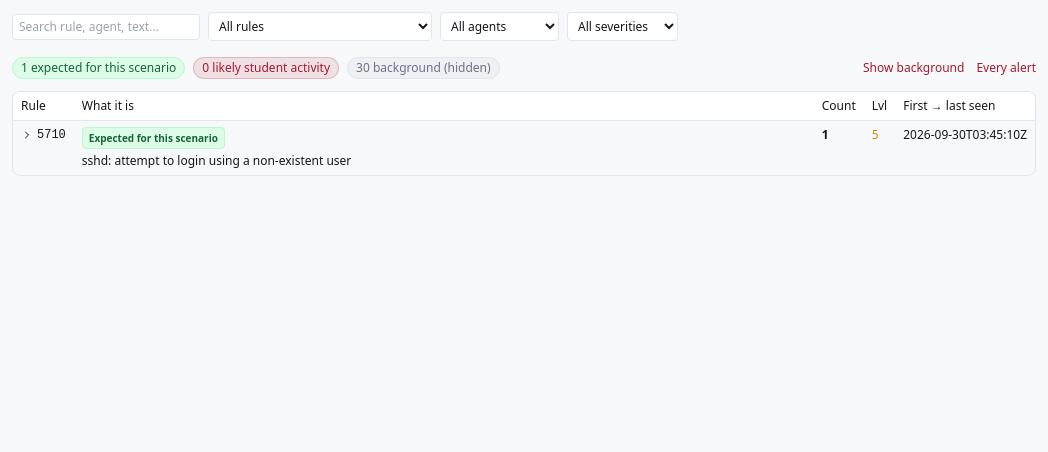
Test: can switch to every raw alert
The image size is (1048, 452).
Click the button "Every alert" at (1006, 68), box x1=976 y1=60 x2=1036 y2=76
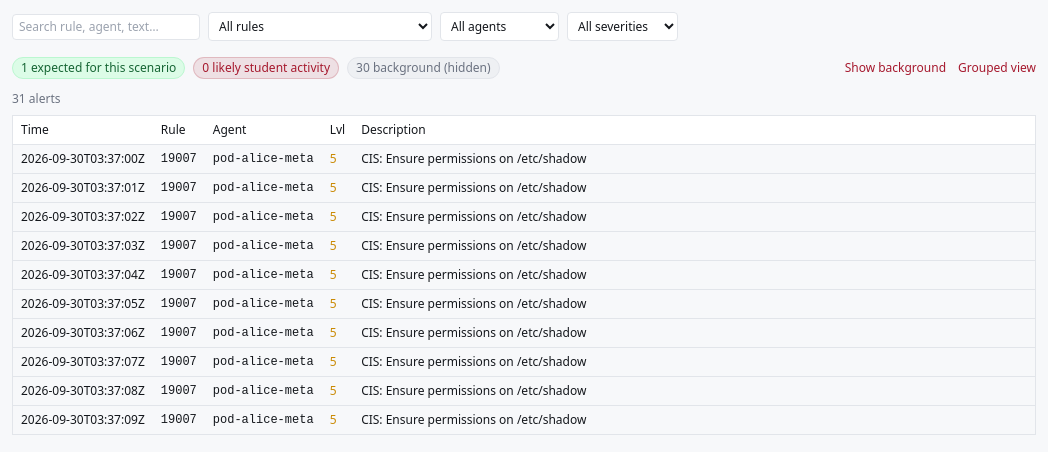
Now the text with test id "alert-history-count" reads "31 alerts", box x1=12 y1=90 x2=60 y2=107
